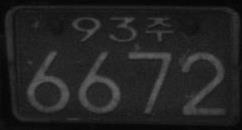2: (181, 50, 226, 115)
3: (108, 15, 137, 42)
6: (25, 50, 70, 114), (77, 51, 121, 114)
7: (127, 51, 172, 114)
9: (72, 15, 100, 42)
주: (145, 15, 173, 42)
